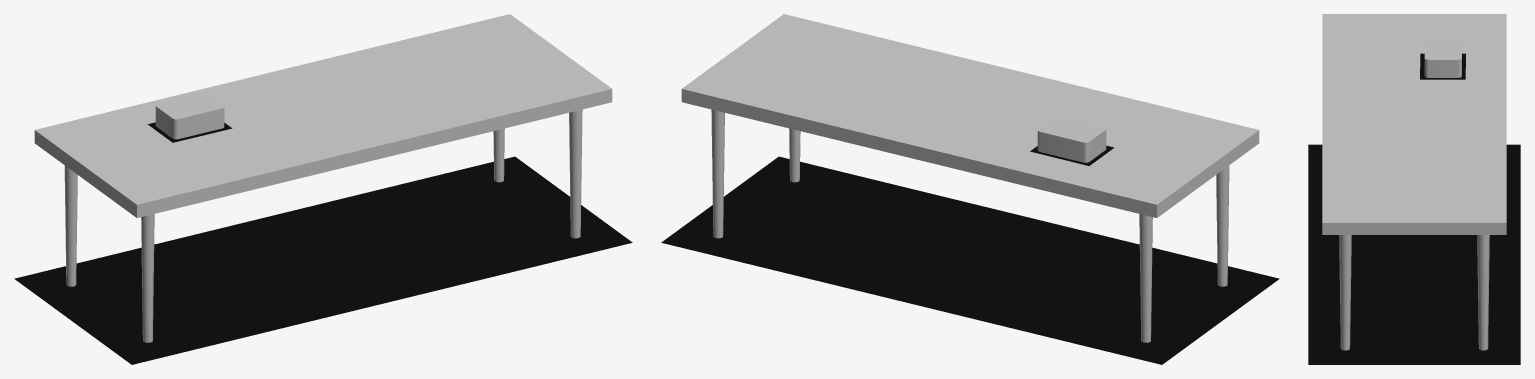
Rendered from desk.FBX.
3 renders of one model, left to right at view 1: azimuth 30°, elevation 25°; view 2: azimuth 150°, elevation 25°; view 3: azimuth 270°, elevation 25°, orthographic. The views are drawn at different scales.
Parts seen in each view (by area): view 1: desk_002_01, shadow_001_01; view 2: desk_002_01, shadow_001_01; view 3: desk_002_01, shadow_001_01.
Part boxes in pixels (x1=…): desk_002_01: x1=34, y1=14, x2=612, y2=342; shadow_001_01: x1=14, y1=122, x2=632, y2=364; desk_002_01: x1=681, y1=14, x2=1259, y2=342; shadow_001_01: x1=661, y1=145, x2=1279, y2=364; desk_002_01: x1=1322, y1=14, x2=1506, y2=350; shadow_001_01: x1=1308, y1=53, x2=1520, y2=364.
Size of the model in its own units: 286 by 93.7 by 117.
